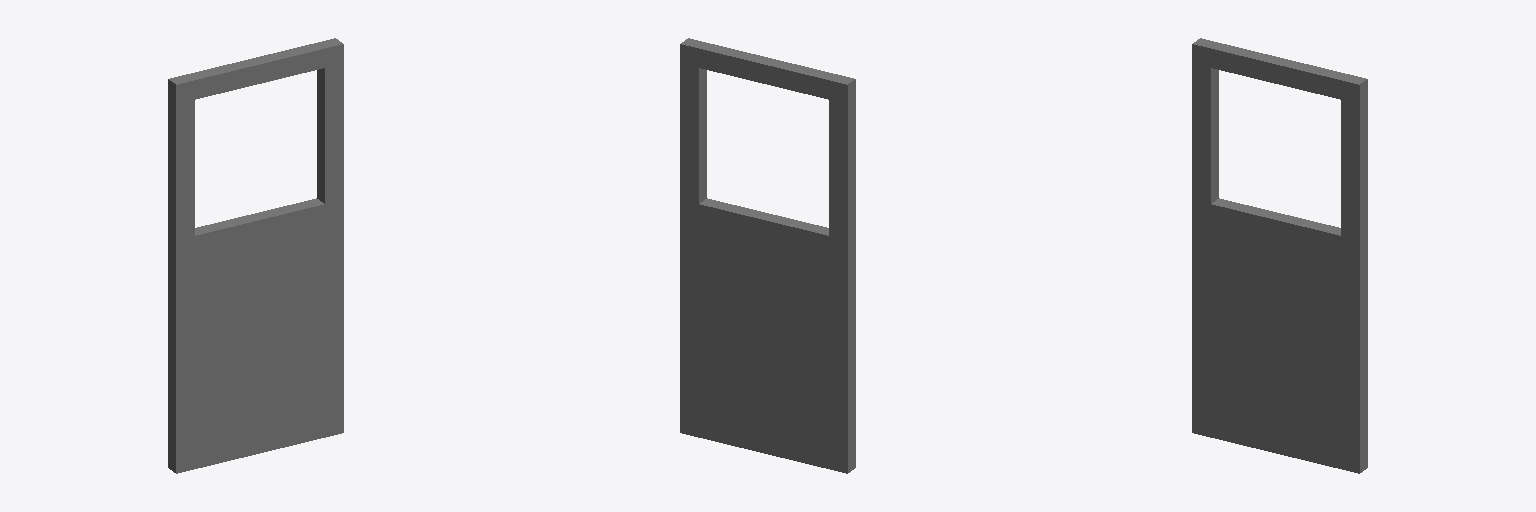
The model's file is left_door2.obj.
The picture shows the model from 3 angles: view 1: azimuth 30°, elevation 25°; view 2: azimuth 150°, elevation 25°; view 3: azimuth 330°, elevation 25°; orthographic projection.
Visible parts, largest first — view 1: LeftDoor.001; view 2: LeftDoor.001; view 3: LeftDoor.001.
Part boxes in pixels (x1,y1,x2,y2): LeftDoor.001: (168, 38, 343, 473); LeftDoor.001: (680, 38, 855, 473); LeftDoor.001: (1192, 38, 1367, 473).
Size of the model in its own units: 9.9 by 22 by 0.825.